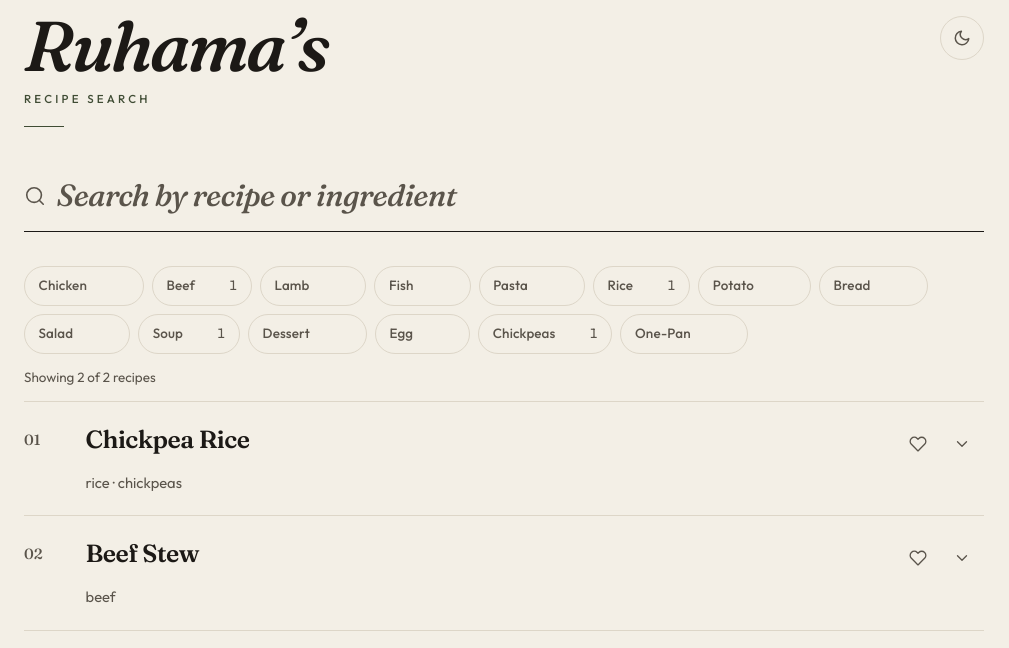
it: App › highlights query matches in recipe names and ingredient previews
Type "chick" into the search field named "Search recipes" at (520, 196), box [56,164,984,228]
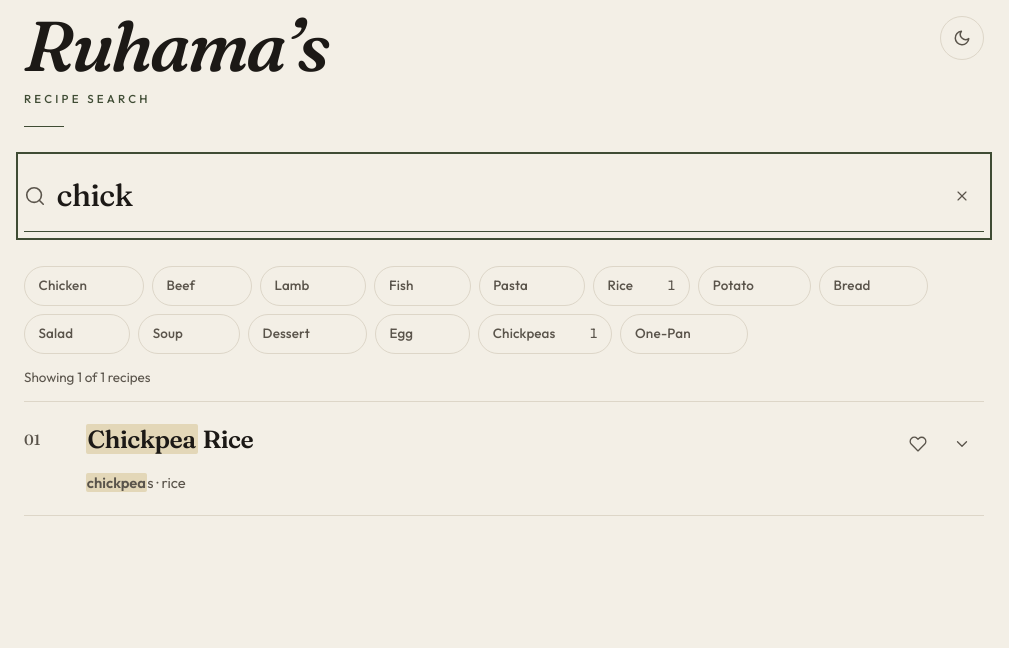
Now the text "Chickpea" is shown 2 times, box [86,424,198,454]; [86,473,147,492]
